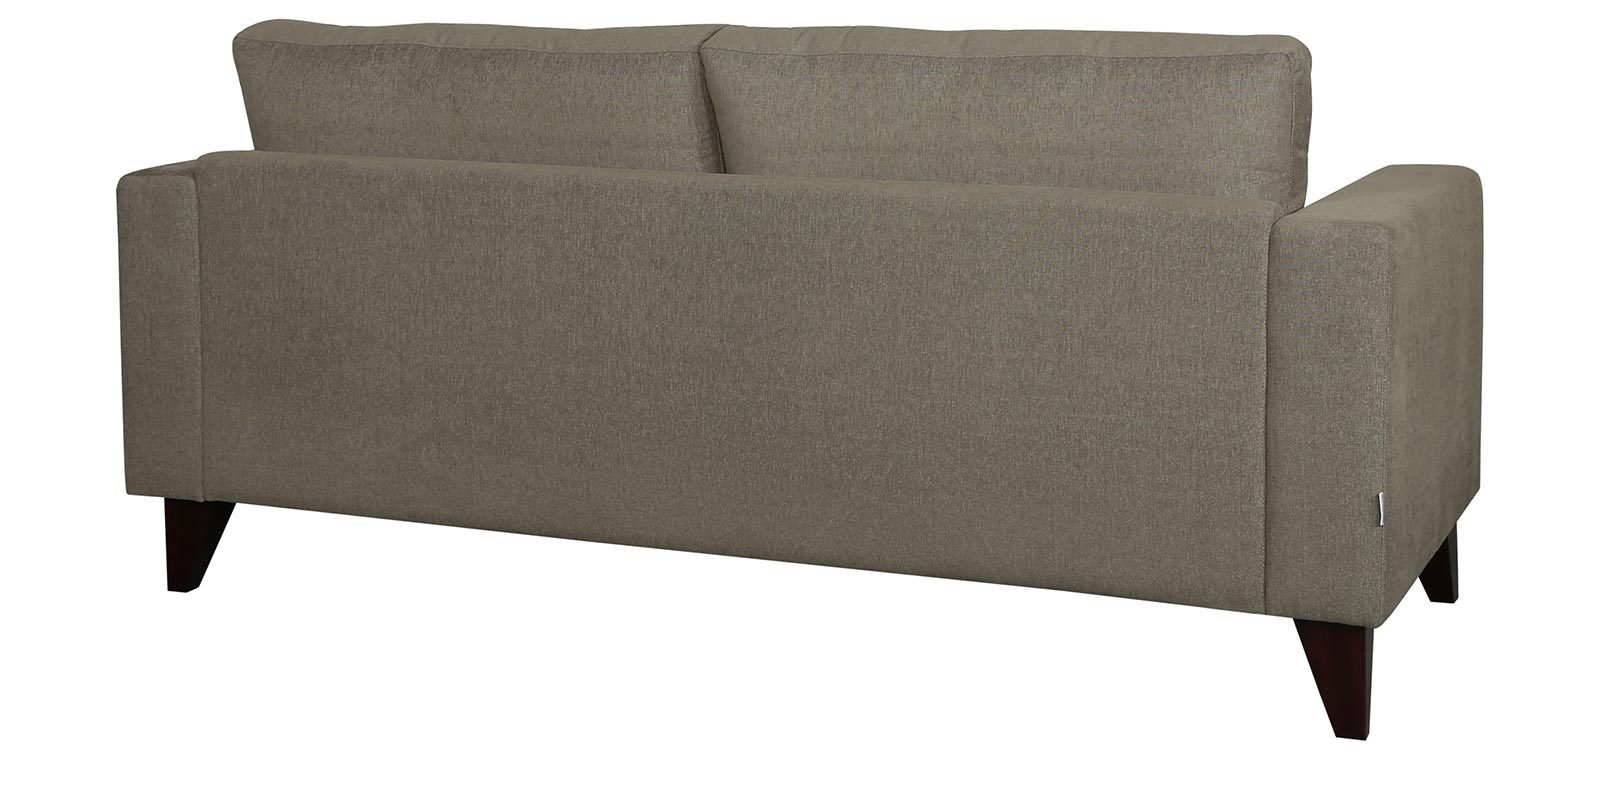Alfredo Three Seater Sofa in Sandy Brown Colour by CasaCraft: (105, 7, 1498, 768)
